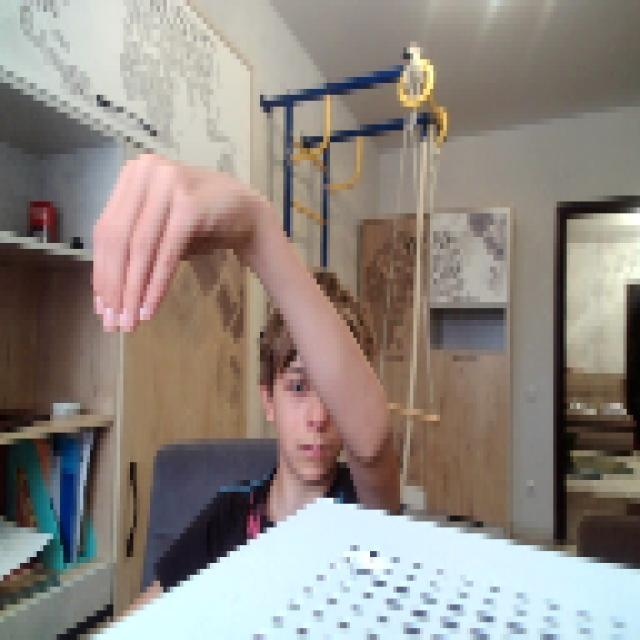left_click: (87, 142, 193, 338)
